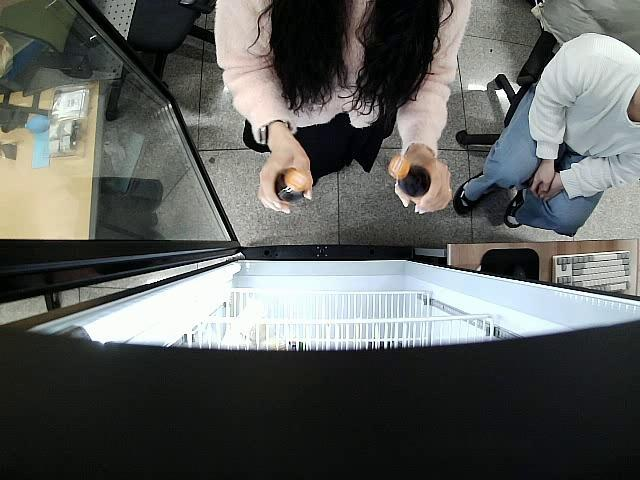17_vita500: (390, 156, 430, 206), (276, 168, 314, 204)
